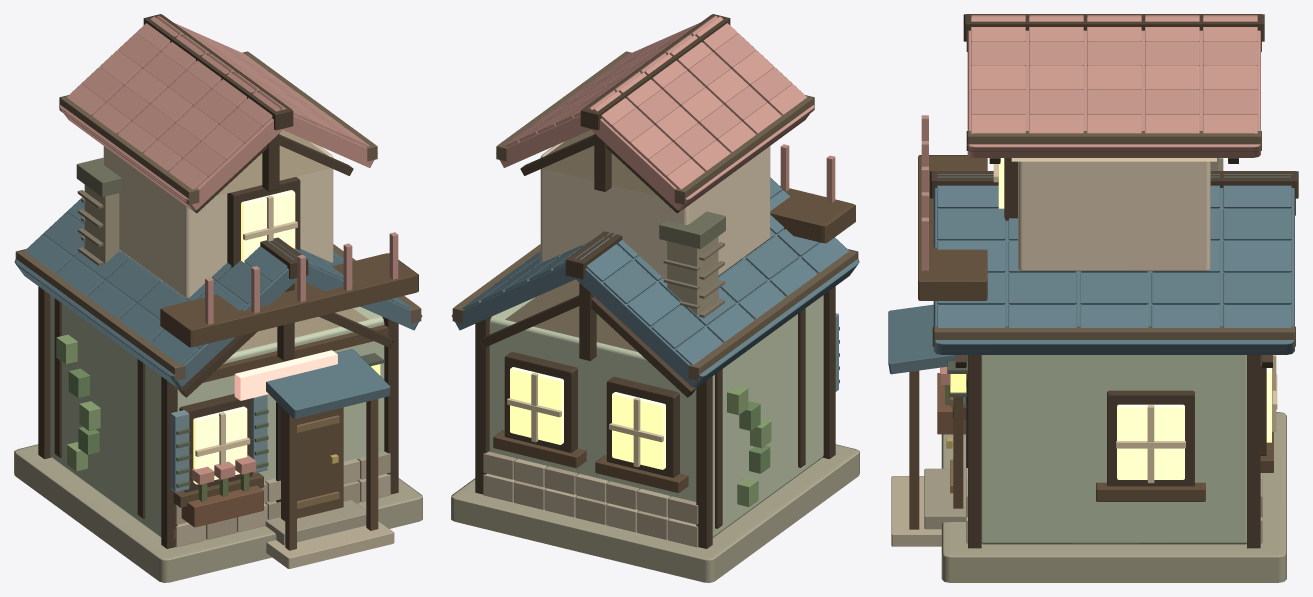
Rendered from workshop-2.glb.
3 renders of one model, left to right at view 1: azimuth 30°, elevation 25°; view 2: azimuth 150°, elevation 25°; view 3: azimuth 270°, elevation 25°, orthographic. The views are drawn at different scales.
Parts seen in each view (by area): view 1: workshop-0-2, door-hinge; view 2: workshop-0-2; view 3: workshop-0-2, door-hinge.
Boxes of the visible parts, left/top/right/bottom form: workshop-0-2: left=14, top=14, right=422, bottom=582; door-hinge: left=281, top=406, right=343, bottom=520; workshop-0-2: left=451, top=14, right=859, bottom=582; workshop-0-2: left=888, top=14, right=1298, bottom=582; door-hinge: left=946, top=374, right=963, bottom=508.
Bounding box in the file's own units: 1.88 × 2.97 × 2.24.
